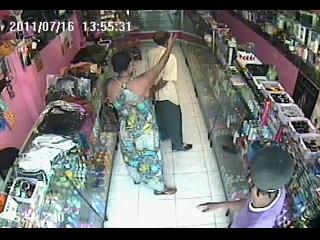Normal: (101, 36, 178, 196), (193, 144, 297, 228), (146, 30, 192, 152)
